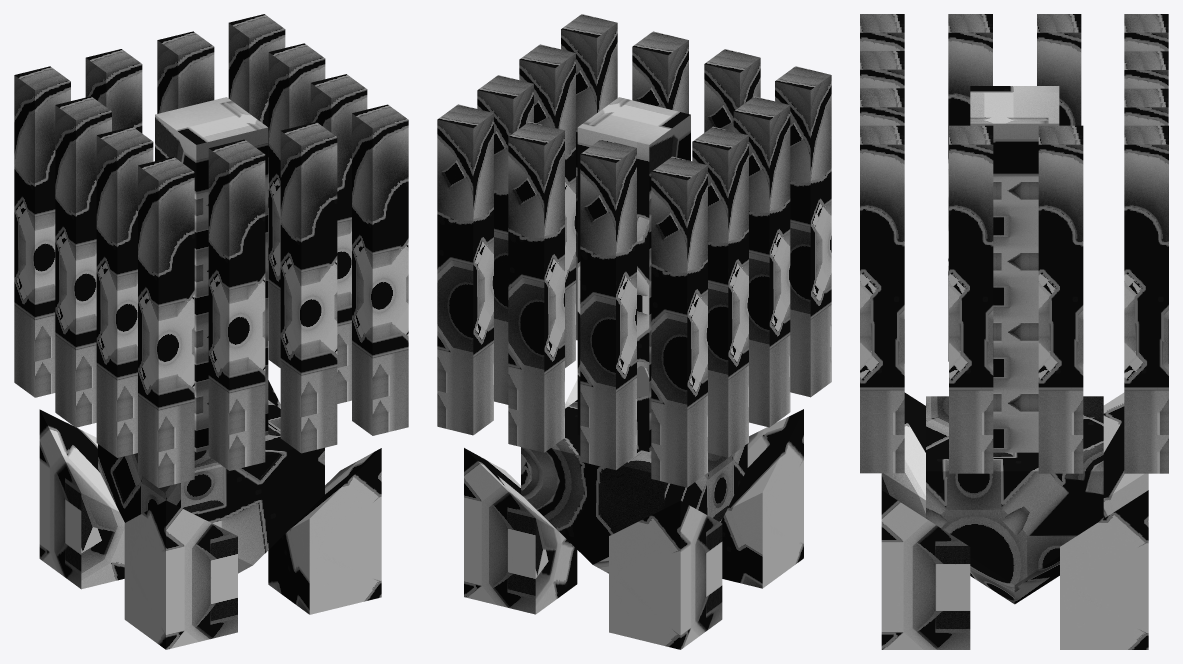
Rendered from Flag_open.fbx.
3 views of the same model, side by side, from view 1: azimuth 30°, elevation 25°; view 2: azimuth 150°, elevation 25°; view 3: azimuth 270°, elevation 25° (orthographic). The views are drawn at different scales.
Visible parts, largest first — view 1: Difference1_002; view 2: Difference1_002; view 3: Difference1_002.
Boxes of the visible parts, x1=… form: Difference1_002: x1=14, y1=14, x2=408, y2=649; Difference1_002: x1=437, y1=14, x2=831, y2=649; Difference1_002: x1=860, y1=14, x2=1168, y2=649.
Size of the model in its own units: 692 by 1297 by 691.
